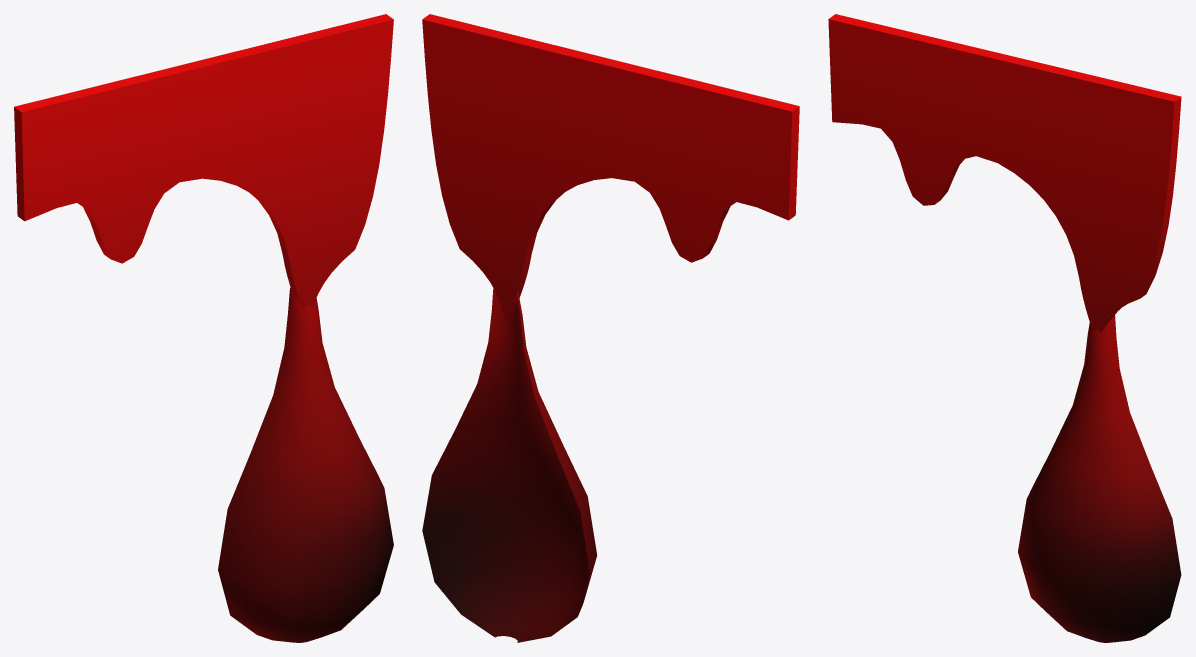
The model's file is Blood_005.FBX.
The picture shows the model from 3 angles, left to right: view 1: azimuth 30°, elevation 25°; view 2: azimuth 150°, elevation 25°; view 3: azimuth 330°, elevation 25°; orthographic projection. The views are drawn at different scales.
Visible parts, largest first — view 1: Blood_005; view 2: Blood_005; view 3: Blood_005.
Boxes of the visible parts, bbox=[...] form: Blood_005: bbox=[14, 14, 393, 642]; Blood_005: bbox=[422, 14, 799, 642]; Blood_005: bbox=[828, 14, 1181, 642].
Size of the model in its own units: 13.5 by 20.92 by 2.4.
1 material, 1 textured.
